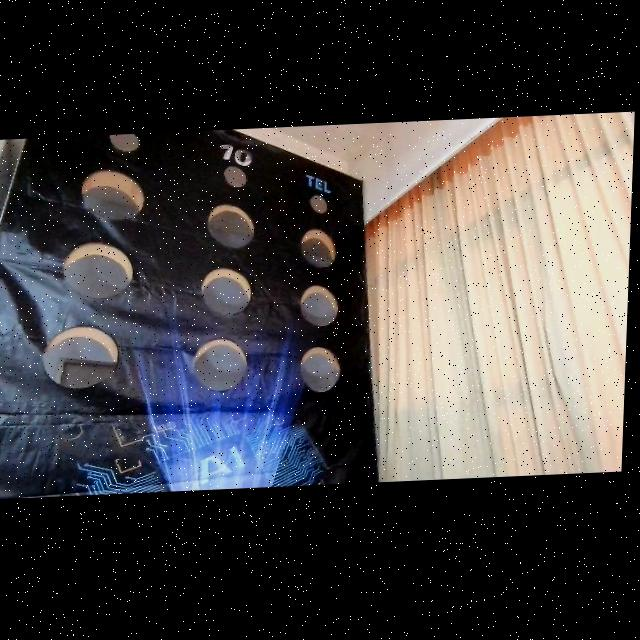hole: (42, 324, 119, 390), (63, 240, 134, 300), (80, 169, 146, 223), (192, 338, 248, 393), (201, 267, 252, 318), (208, 203, 256, 250), (300, 346, 341, 393), (300, 284, 339, 327), (300, 228, 335, 269), (109, 128, 140, 153), (223, 166, 247, 189), (310, 195, 328, 215)
